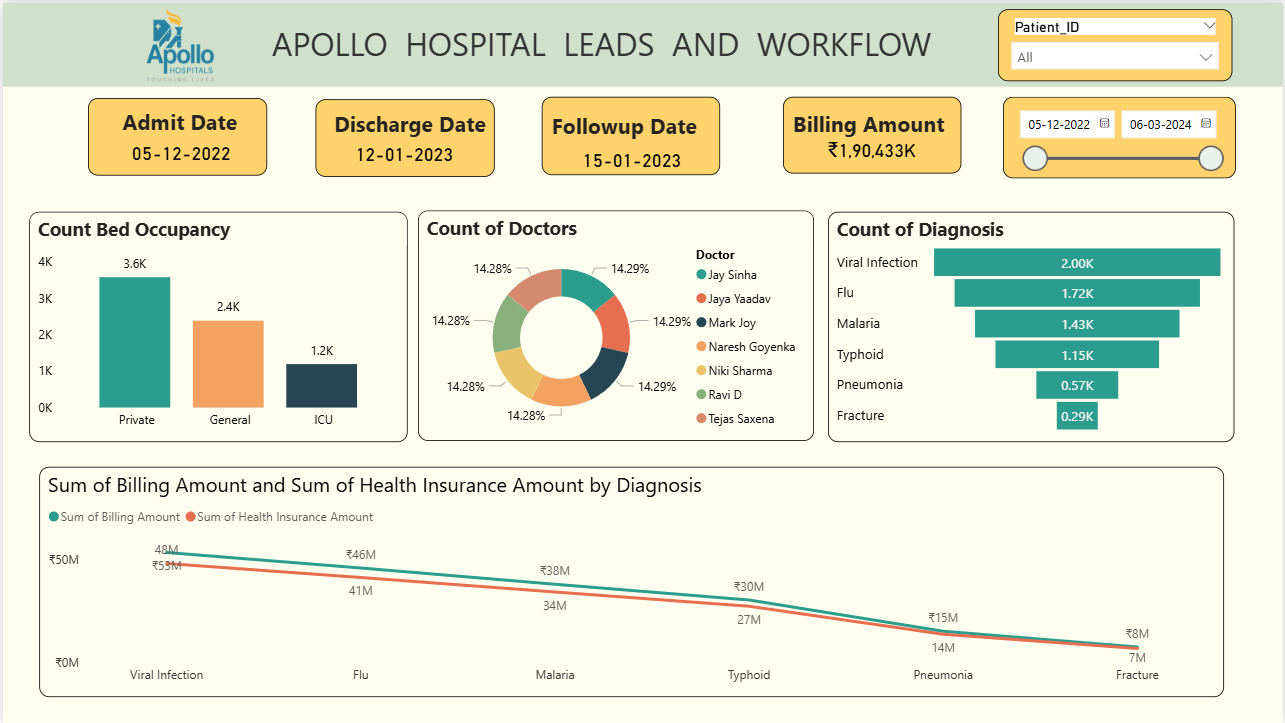

Layout of this report page (visuals, bound fields, positions):
{"tool":"powerbi","page":{"name":"Page 1","canvas":[1280,720],"ordinal":0},"visuals":[{"type":"shape","box":[780,94.3,178.6,77.1],"z":1000},{"type":"shape","box":[538.6,94.3,178.6,78.6],"z":2000},{"type":"shape","box":[311.9,96.7,178.9,77.8],"z":3000},{"type":"shape","box":[84.4,94.4,178.9,77.8],"z":4000},{"type":"shape","box":[0,0,1280,83.8],"z":5000},{"type":"image","box":[81.2,0,192.5,83.8],"z":6000},{"type":"textbox","box":[263.8,13.8,700,58.8],"z":7000},{"type":"card","fields":{"Values":["Min(Sheet1.Admit_Date)"]},"box":[100,134.4,156.7,32.2],"z":8000},{"type":"textbox","box":[98.8,98.8,156.2,41.2],"z":9000},{"type":"textbox","box":[326.2,101.2,176.2,41.2],"z":10000},{"type":"textbox","box":[544.2,102.5,165.8,40],"z":11000},{"type":"card","fields":{"Values":["Min(Sheet1.Discharge_Date)"]},"box":[333.3,135.6,135.6,34.4],"z":12000},{"type":"card","fields":{"Values":["Min(Sheet1.Followup Date)"]},"box":[551.1,140,155.6,35.6],"z":13000},{"type":"textbox","box":[785,100.8,167.5,42.5],"z":14000},{"type":"card","fields":{"Values":["Sum(Sheet1.Billing Amount)"]},"box":[794.3,128.6,150,38.6],"z":15000},{"type":"slicer","fields":{"Values":["Sheet1.Admit_Date"]},"box":[1000,94.3,232.9,81.4],"z":16000},{"type":"slicer","fields":{"Values":["Sheet1.Patient_ID"]},"box":[994.4,6.7,234.4,72.2],"z":17000},{"type":"columnChart","title":"Count Bed Occupancy","fields":{"Y":["CountNonNull(Sheet1.Bed_Occupancy)"],"Category":["Sheet1.Bed_Occupancy"]},"box":[26.7,208.3,378.3,230],"z":18000},{"type":"donutChart","title":"Count of Doctors","fields":{"Category":["Sheet1.Doctor"],"Y":["CountNonNull(Sheet1.Doctor)"]},"box":[415,208,396,230],"z":19000},{"type":"funnel","title":"Count of Diagnosis","fields":{"Category":["Sheet1.Diagnosis"],"Y":["CountNonNull(Sheet1.Diagnosis)"]},"box":[825,208.3,406.7,230],"z":20000},{"type":"lineChart","fields":{"Y":["Sum(Sheet1.Billing Amount)","Sum(Sheet1.Health Insurance Amount)"],"Category":["Sheet1.Diagnosis"]},"box":[36.2,463.8,1185,230],"z":21000}]}

Visuals, with their boxes in screenshot pixels (x1, y1, x2, y2), scaled from the page's 1280x720 canvas onto the 1285x723 screenshot:
shape: <bbox>783, 95, 962, 172</bbox>
shape: <bbox>541, 95, 720, 174</bbox>
shape: <bbox>313, 97, 493, 175</bbox>
shape: <bbox>85, 95, 264, 173</bbox>
shape: <bbox>0, 0, 1284, 84</bbox>
image: <bbox>82, 0, 275, 84</bbox>
textbox: <bbox>265, 14, 968, 73</bbox>
card - Min(Sheet1.Admit_Date): <bbox>100, 135, 258, 167</bbox>
textbox: <bbox>99, 99, 256, 141</bbox>
textbox: <bbox>327, 102, 504, 143</bbox>
textbox: <bbox>546, 103, 713, 143</bbox>
card - Min(Sheet1.Discharge_Date): <bbox>335, 136, 471, 171</bbox>
card - Min(Sheet1.Followup Date): <bbox>553, 141, 709, 176</bbox>
textbox: <bbox>788, 101, 956, 144</bbox>
card - Sum(Sheet1.Billing Amount): <bbox>797, 129, 948, 168</bbox>
slicer - Sheet1.Admit_Date: <bbox>1004, 95, 1238, 176</bbox>
slicer - Sheet1.Patient_ID: <bbox>998, 7, 1234, 79</bbox>
"Count Bed Occupancy" columnChart: <bbox>27, 209, 407, 440</bbox>
"Count of Doctors" donutChart: <bbox>417, 209, 814, 440</bbox>
"Count of Diagnosis" funnel: <bbox>828, 209, 1237, 440</bbox>
lineChart - Sum(Sheet1.Billing Amount) x Sum(Sheet1.Health Insurance Amount): <bbox>36, 466, 1226, 697</bbox>
